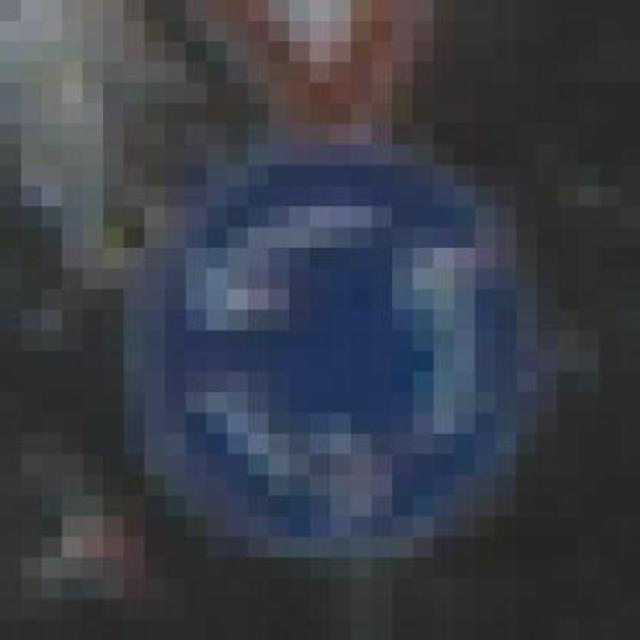Round-About: (103, 103, 557, 599)
